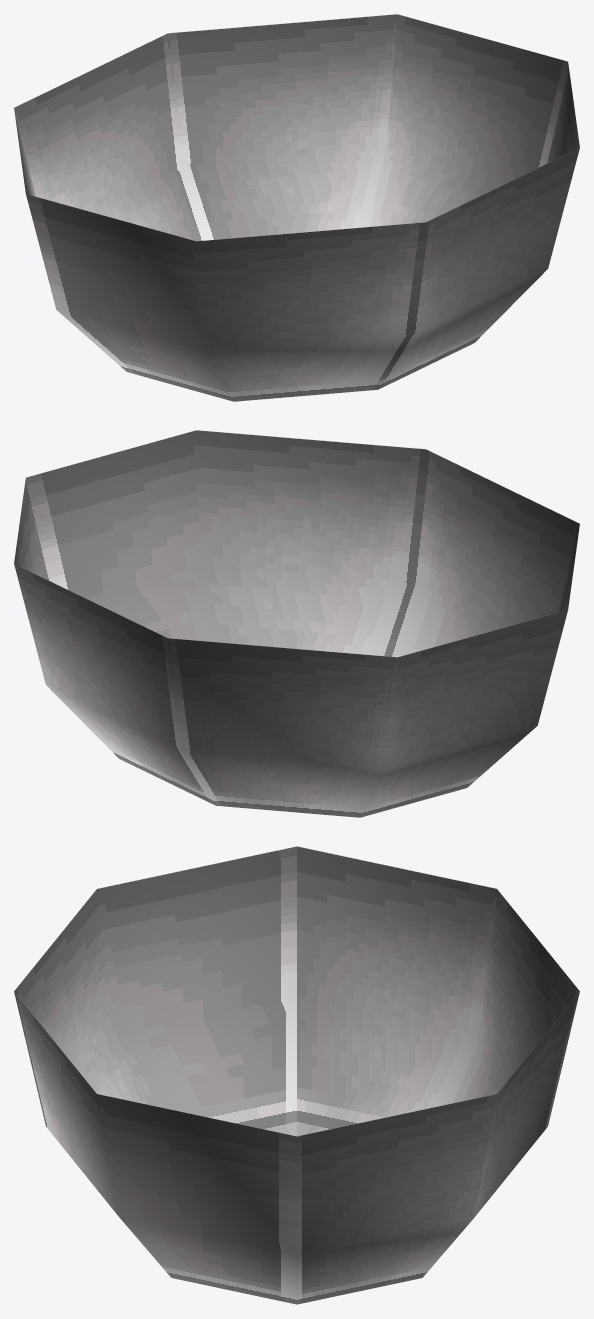
3 views of the same model, one above another, from view 1: azimuth 30°, elevation 25°; view 2: azimuth 150°, elevation 25°; view 3: azimuth 270°, elevation 25° (orthographic). The views are drawn at different scales.
Visible parts, largest first — view 1: 2782item2782; view 2: 2782item2782; view 3: 2782item2782.
Boxes of the visible parts, x1,y1,x2,y2 form: 2782item2782: (14, 14, 579, 401); 2782item2782: (14, 430, 579, 817); 2782item2782: (14, 846, 579, 1304).
Size of the model in its own units: 0.6567 by 0.2769 by 0.5415.
1 material, 1 textured.
